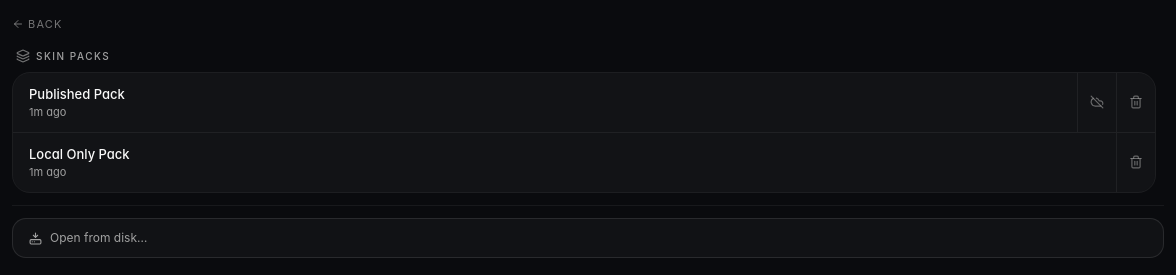
Test case: SavedProjectsList › Workshop delete affordance › cancelling Workshop delete confirm restores the arm button
Click the button named "Remove Published Pack from Workshop" at (1096, 102), box x1=1077 y1=72 x2=1116 y2=132
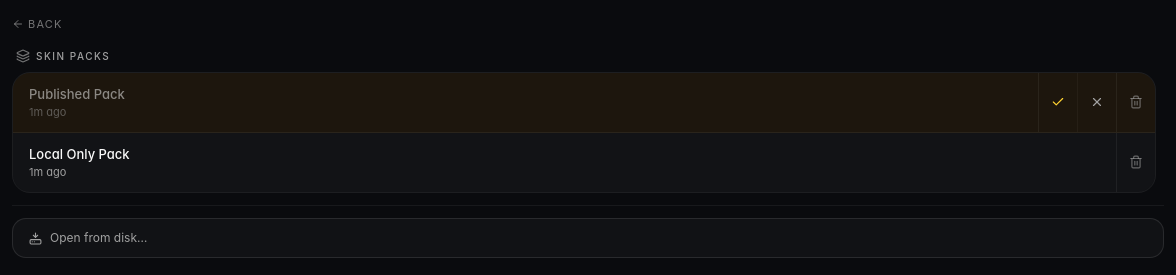
Click the button with test id "cancel-workshop-delete" at (1096, 102), box x1=1077 y1=72 x2=1116 y2=132
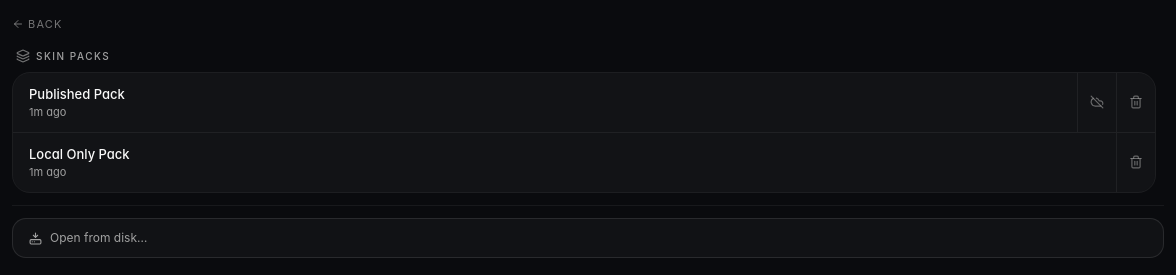
Check: no buttons with test id "confirm-workshop-delete" are shown
Check: the button named "Remove Published Pack from Workshop" is shown, box x1=1077 y1=72 x2=1116 y2=132
